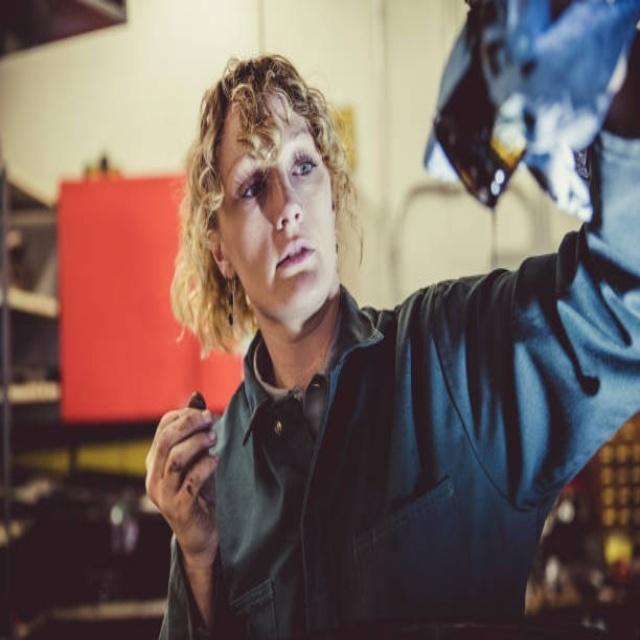Sin_gafas: (232, 127, 318, 215)
Sin_guantes: (145, 396, 223, 554)
Sin_mascara: (261, 232, 328, 303)
